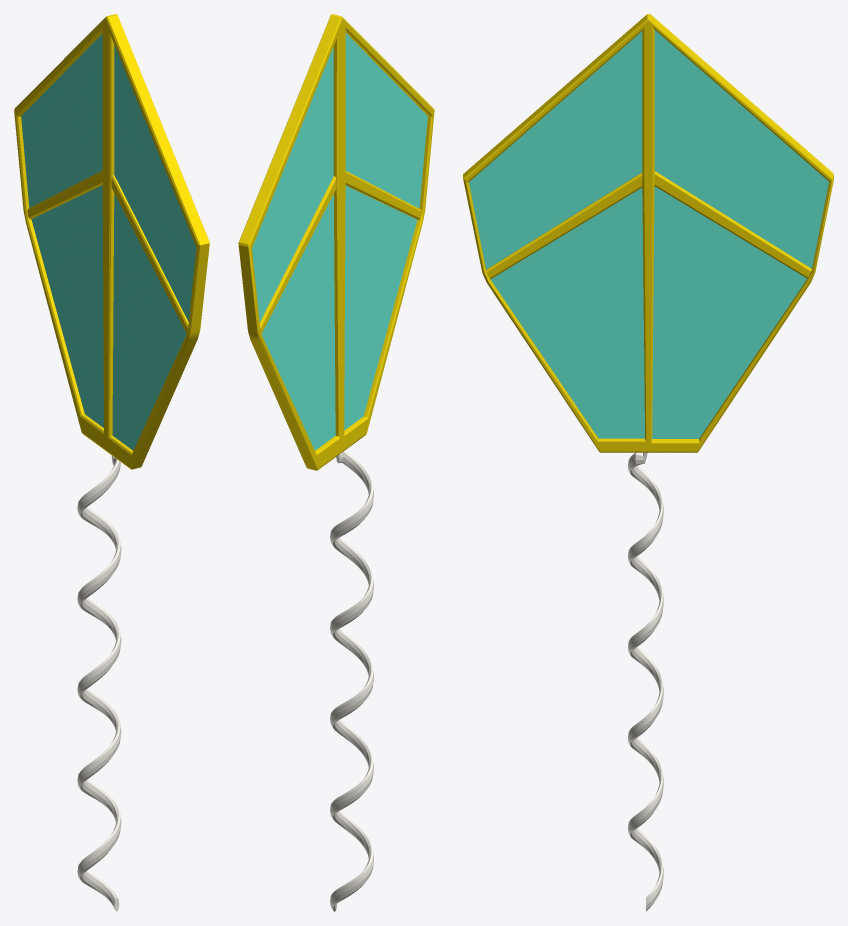
Rendered from Kite_2.fbx.
3 views of the same model, side by side, from view 1: azimuth 30°, elevation 25°; view 2: azimuth 150°, elevation 25°; view 3: azimuth 270°, elevation 25° (orthographic).
Visible parts, largest first — view 1: Kite; view 2: Kite; view 3: Kite.
Part boxes in pixels (x1,y1,x2,y2): Kite: [14, 14, 209, 911]; Kite: [238, 14, 434, 911]; Kite: [463, 14, 833, 911].
Bounding box in the file's own units: 0.5592 × 11.93 × 4.48.
